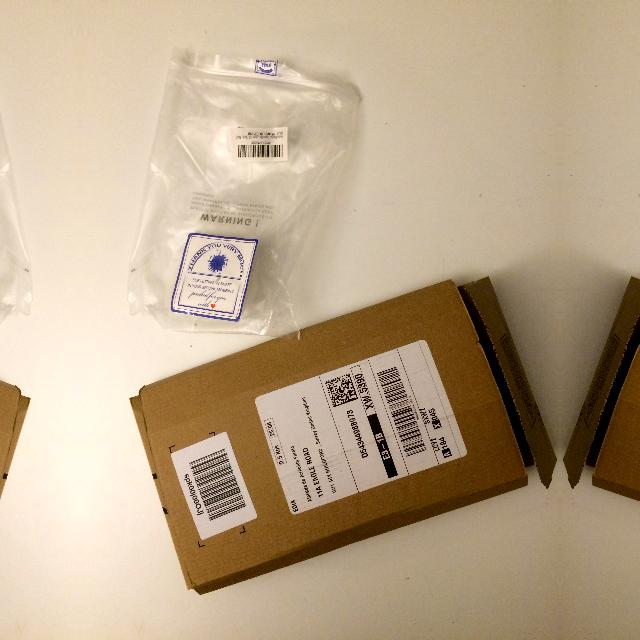Cardboard: (120, 266, 560, 614)
Plastic: (118, 34, 366, 353)
